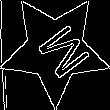M_SW: (22, 16, 88, 83)
